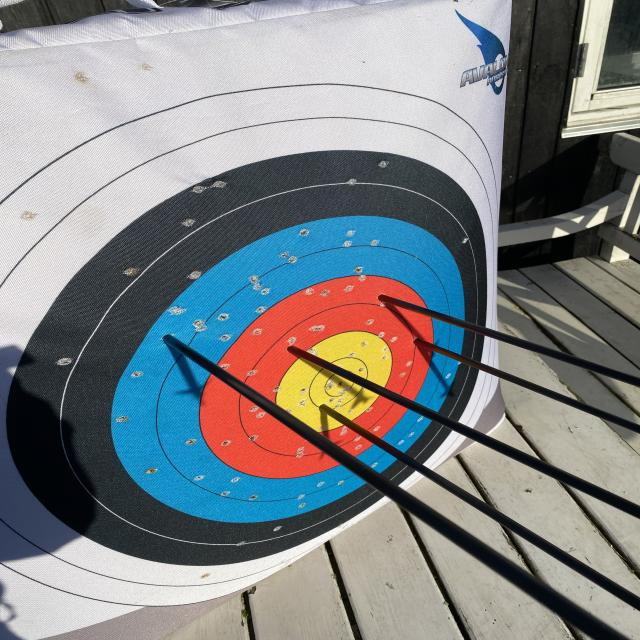Arrow_Blue: (146, 322, 202, 356)
Arrow_Red: (399, 329, 443, 361), (356, 279, 394, 313), (281, 333, 306, 365)
Arrow_Yellow: (309, 392, 350, 421)
